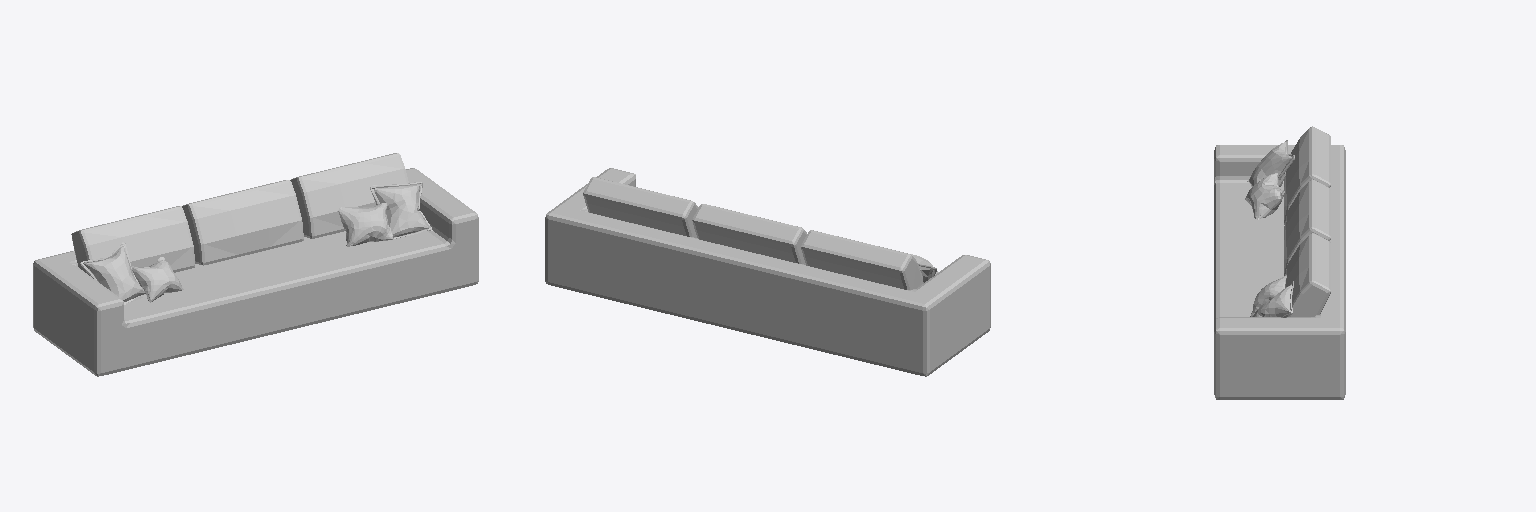
File: HepBurn_Sofa.obj
3 renders of one model, left to right at view 1: azimuth 30°, elevation 25°; view 2: azimuth 150°, elevation 25°; view 3: azimuth 270°, elevation 25°, orthographic.
Parts seen in each view (by area): view 1: Rectangle001; view 2: Rectangle001; view 3: Rectangle001.
Boxes of the visible parts, <box> form: Rectangle001: <box>33,153,478,376</box>; Rectangle001: <box>545,168,990,376</box>; Rectangle001: <box>1214,126,1345,399</box>.
Size of the model in its own units: 3530 by 921 by 1045.